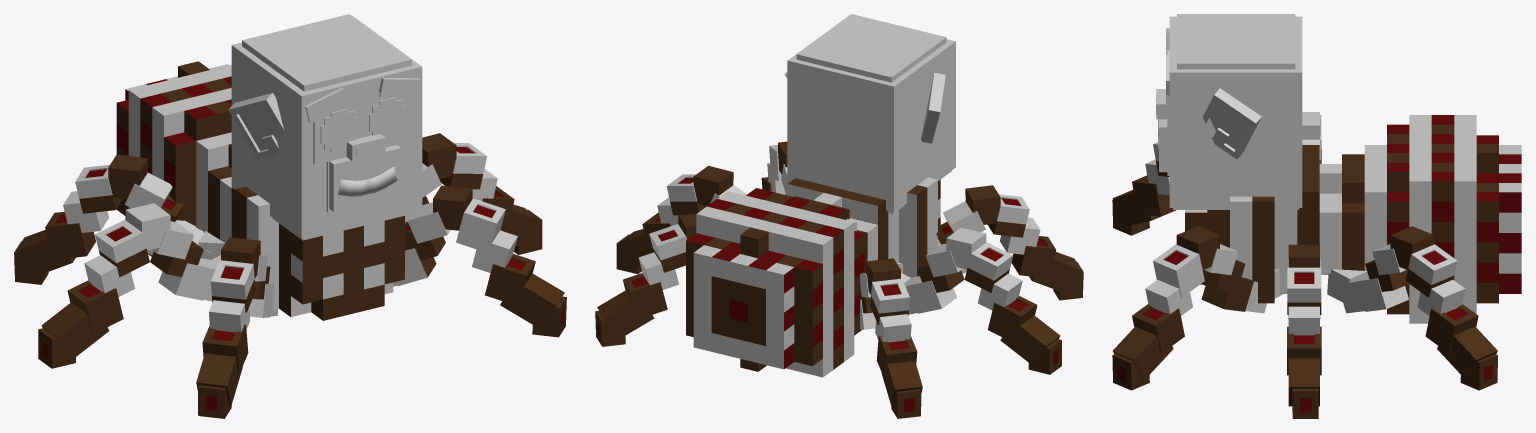
3 renders of one model, left to right at view 1: azimuth 30°, elevation 25°; view 2: azimuth 150°, elevation 25°; view 3: azimuth 270°, elevation 25°, orthographic. The views are drawn at different scales.
Parts seen in each view (by area): view 1: Pack 9.011; view 2: Pack 9.011; view 3: Pack 9.011.
Boxes of the visible parts, <box> form: Pack 9.011: <box>14,14,566,418</box>; Pack 9.011: <box>595,14,1083,418</box>; Pack 9.011: <box>1112,14,1521,418</box>.
Bounding box in the file's own units: 182 × 99.41 × 138.
